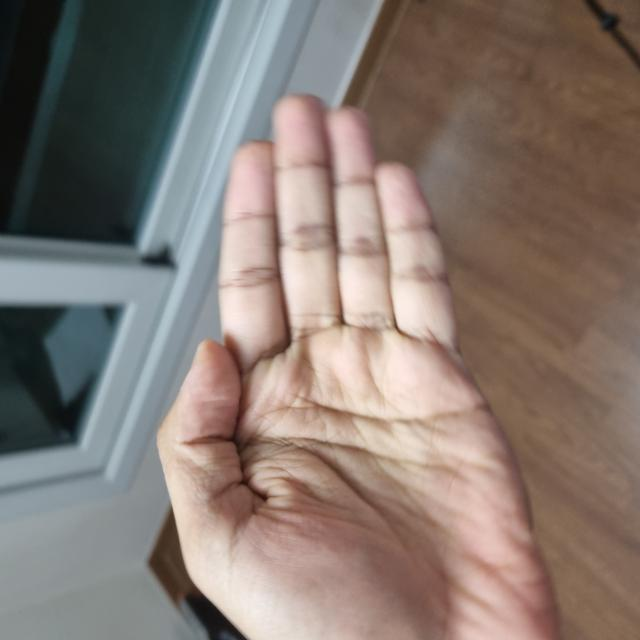Paper: (0, 163, 529, 553)
